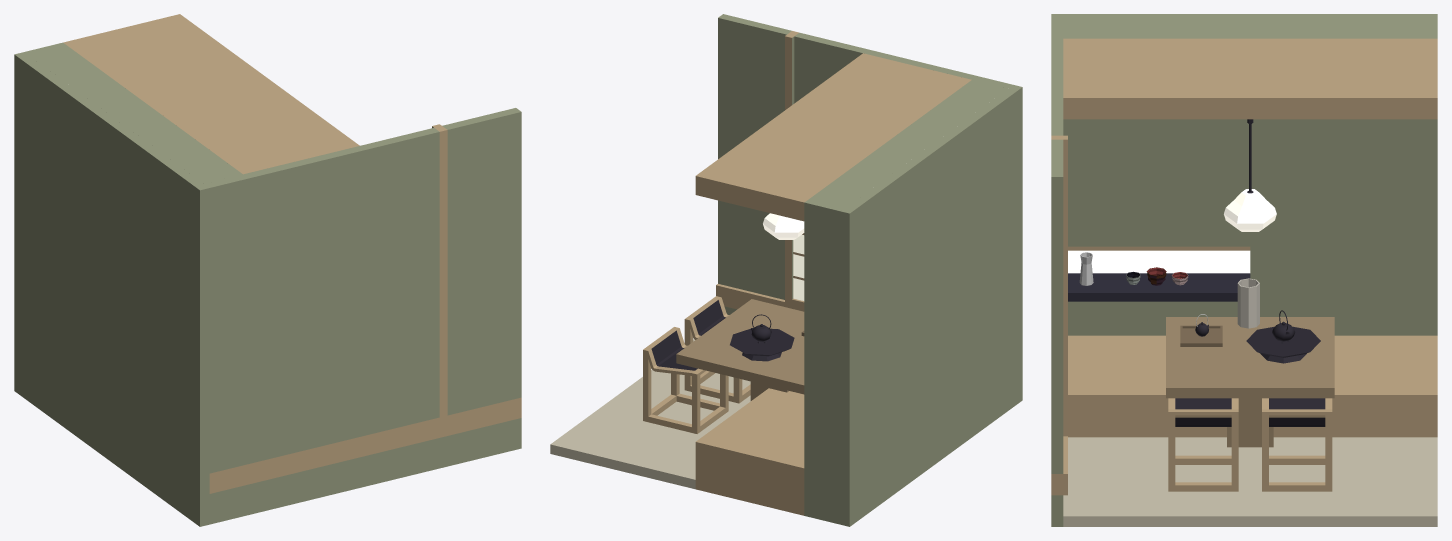
Rendered from room12-transformed.glb.
The picture shows the model from 3 angles, left to right: view 1: azimuth 30°, elevation 25°; view 2: azimuth 150°, elevation 25°; view 3: azimuth 270°, elevation 25°; orthographic projection. The views are drawn at different scales.
Visible parts, largest first — view 1: WallLeft, WallRight, LowCeil, TopShelf, ShelfWall; view 2: WallRight, LowCeil, WallLeft, ShelfWall, Floor, HighFloor, TableTop, ChairFar_0, TopShelf, ChairFar, TeaBase, ChairFar_1 (+2 smaller); view 3: ShelfWall, LowCeil, Floor, TopShelf, HighFloor, TableTop, BottomShelf, WallLeft, WallRight, ChairFar, ChairFar_0, Lamp (+5 smaller).
Part boxes in pixels (x1,y1,x2,y2): WallLeft: (204,108,521,524); WallRight: (14,52,209,526); LowCeil: (63,14,359,174); TopShelf: (114,108,242,183); ShelfWall: (24,42,152,117); WallRight: (840,85,1022,526); LowCeil: (695,53,971,221); WallLeft: (716,14,1013,314); ShelfWall: (804,141,923,514); Floor: (550,339,840,524); HighFloor: (695,388,804,506); TableTop: (676,299,804,394); ChairFar_0: (643,327,728,433); TopShelf: (888,80,1007,149); ChairFar: (684,296,750,403); TeaBase: (730,328,794,361); ChairFar_1: (651,330,697,370); ShelfWall: (1250,19,1437,335); LowCeil: (1063,38,1437,119); Floor: (1063,437,1437,526); TopShelf: (1063,19,1250,250); HighFloor: (1068,335,1437,437); TableTop: (1166,317,1334,398); BottomShelf: (1068,273,1250,335); WallLeft: (1051,19,1067,526); WallRight: (1051,14,1437,273); ChairFar: (1168,398,1238,491); ChairFar_0: (1262,398,1332,491); Lamp: (1224,119,1276,231).
Size of the model in its own units: 1155 by 1155 by 1155.
